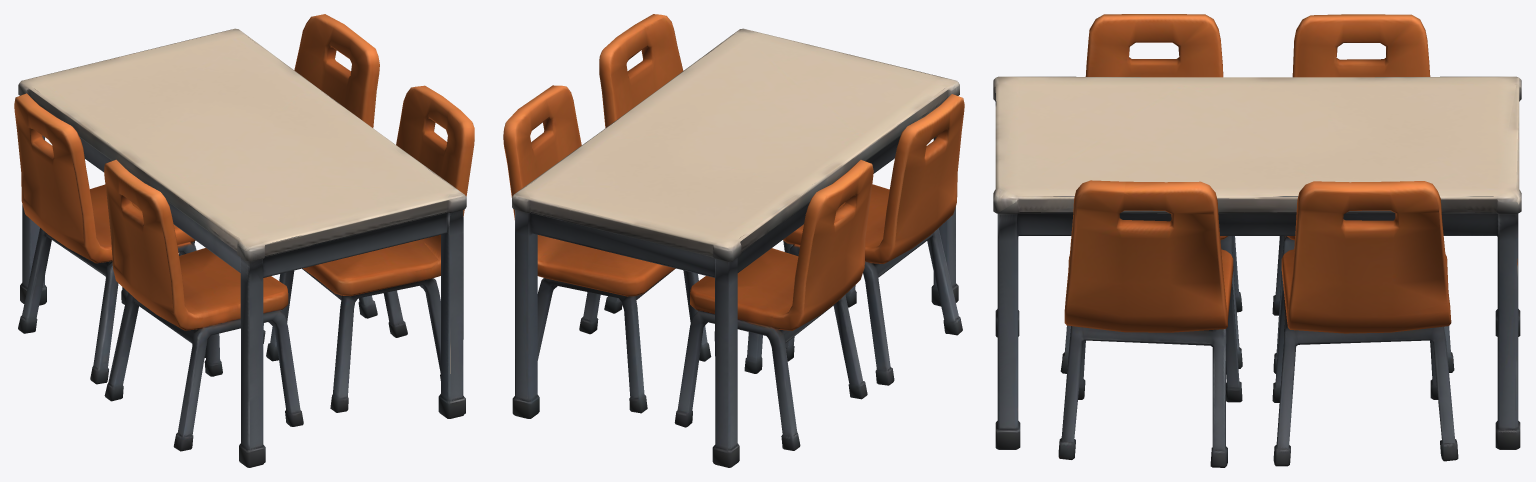
File: table.glb
3 renders of one model, left to right at view 1: azimuth 30°, elevation 25°; view 2: azimuth 150°, elevation 25°; view 3: azimuth 270°, elevation 25°, orthographic. The views are drawn at different scales.
Visible parts, largest first — view 1: tripo_node_4ece8d81-81d8-4245-a506-a5b2d286d78b; view 2: tripo_node_4ece8d81-81d8-4245-a506-a5b2d286d78b; view 3: tripo_node_4ece8d81-81d8-4245-a506-a5b2d286d78b.
Part boxes in pixels (x1,y1,x2,y2): tripo_node_4ece8d81-81d8-4245-a506-a5b2d286d78b: (14,14,474,467); tripo_node_4ece8d81-81d8-4245-a506-a5b2d286d78b: (503,14,964,467); tripo_node_4ece8d81-81d8-4245-a506-a5b2d286d78b: (993,14,1521,467).
Size of the model in its own units: 0.8066 by 0.6074 by 0.998.
Materials: 1 (1 with a texture image).
